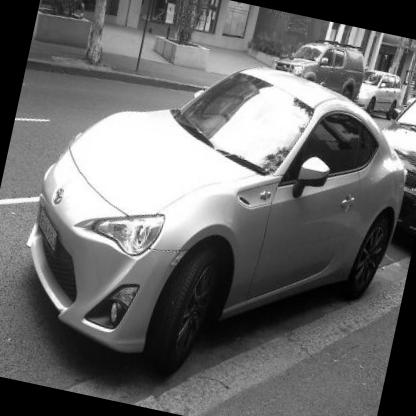car: (1, 13, 416, 416)
